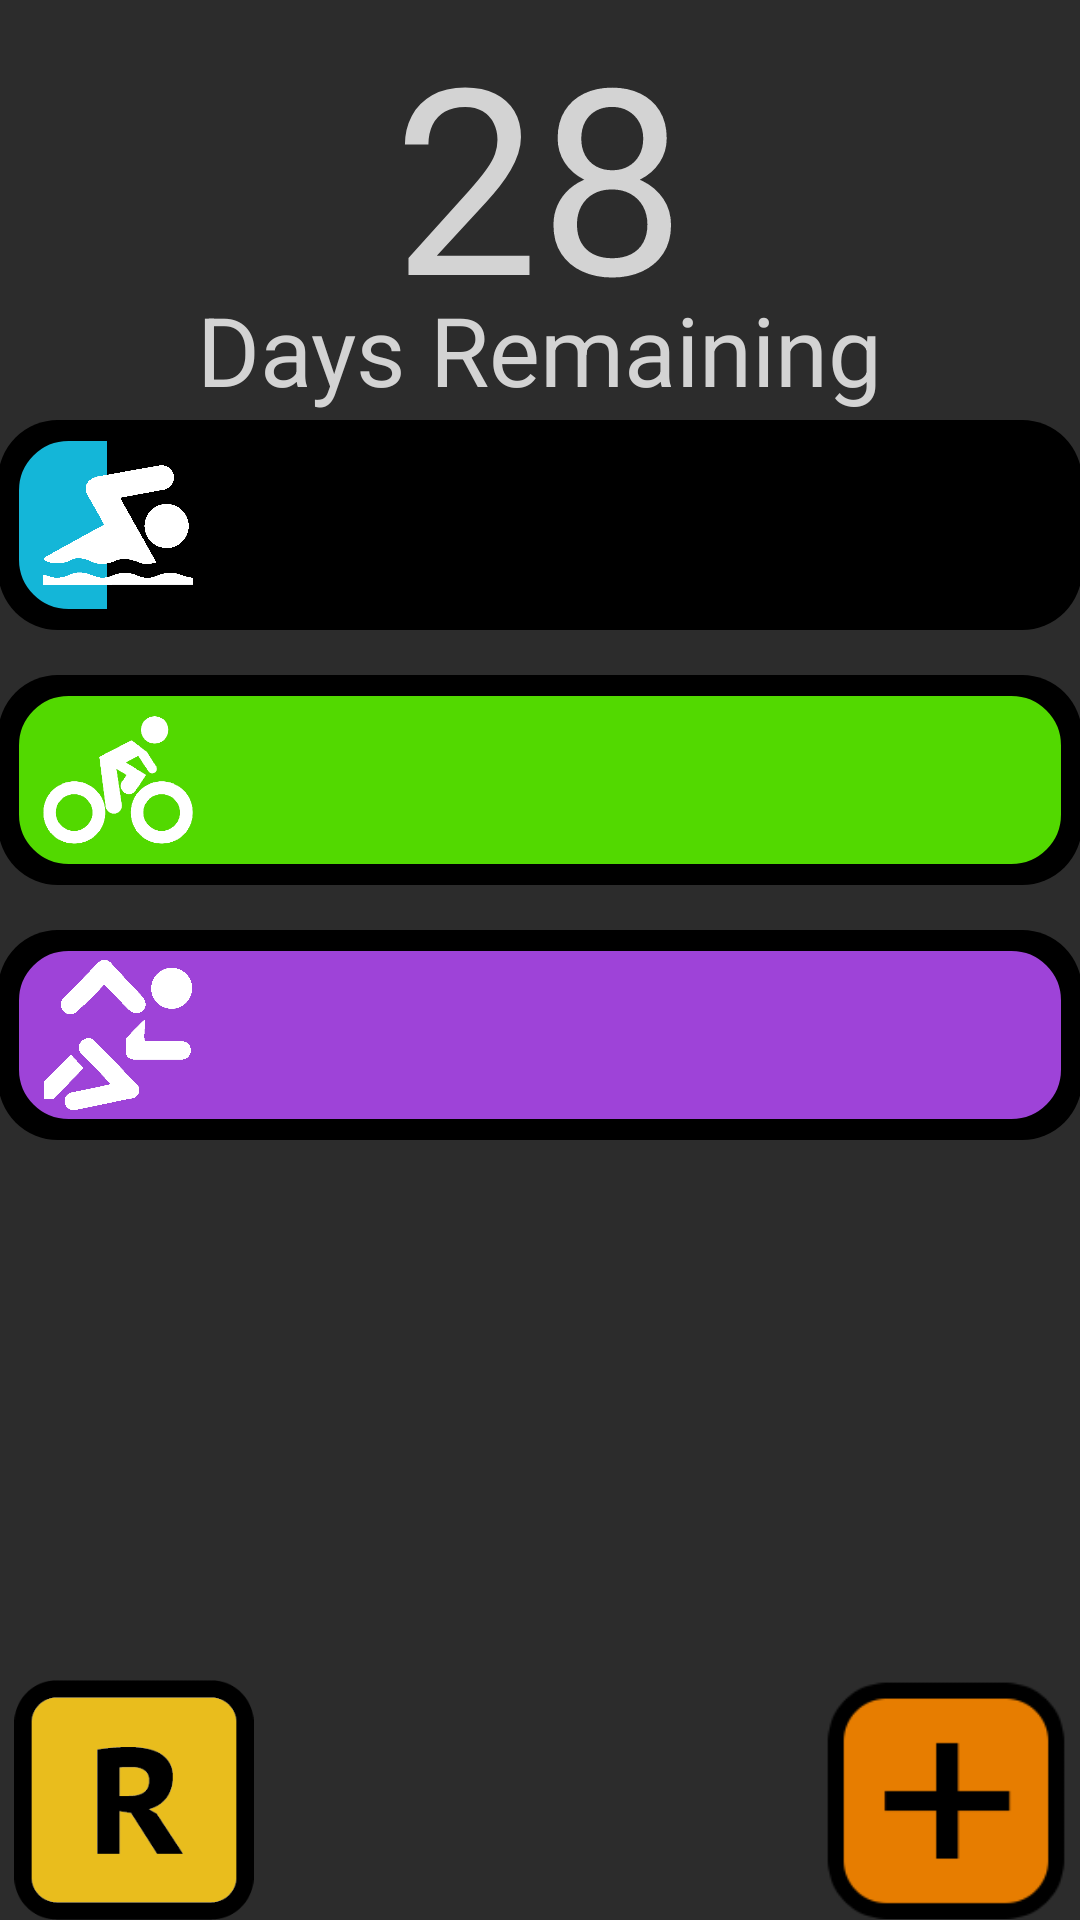

Screen size 1080*1920. Icon name, then its center in pixels as point (x, y):
bike: point (118, 780)
plus: point (946, 1801)
rankings: point (134, 1800)
run: point (118, 1035)
swim: point (118, 525)
